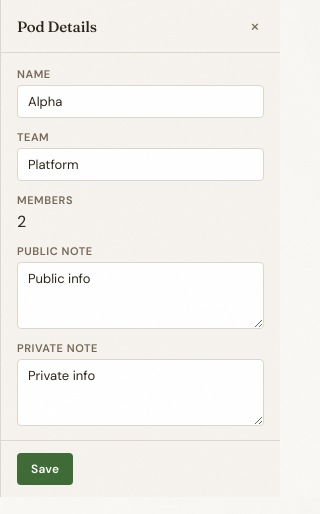
Scenario: PodSidebar — branch coverage › save button status text › disables save button while saving
Replace the text in the field showing "Alpha" below "Name" with "Renamed" at x=140, y=102, box [17,85,264,118]
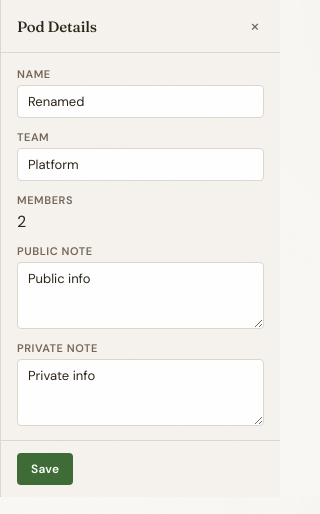
Click the button "Save" at x=45, y=469, box [17,453,73,485]
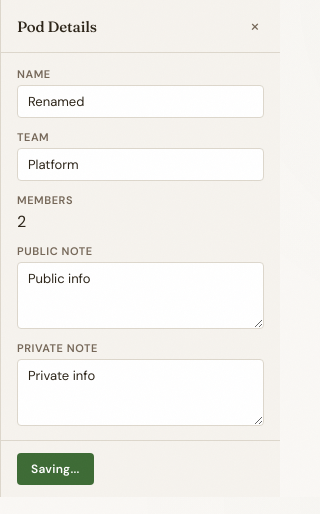
Now the button "Saving..." is disabled, box [17,453,94,485]
